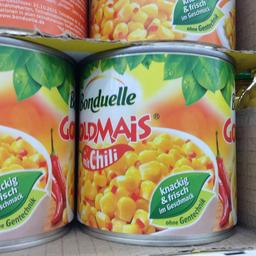corn: (76, 44, 238, 246), (0, 34, 80, 248), (88, 0, 237, 47)
